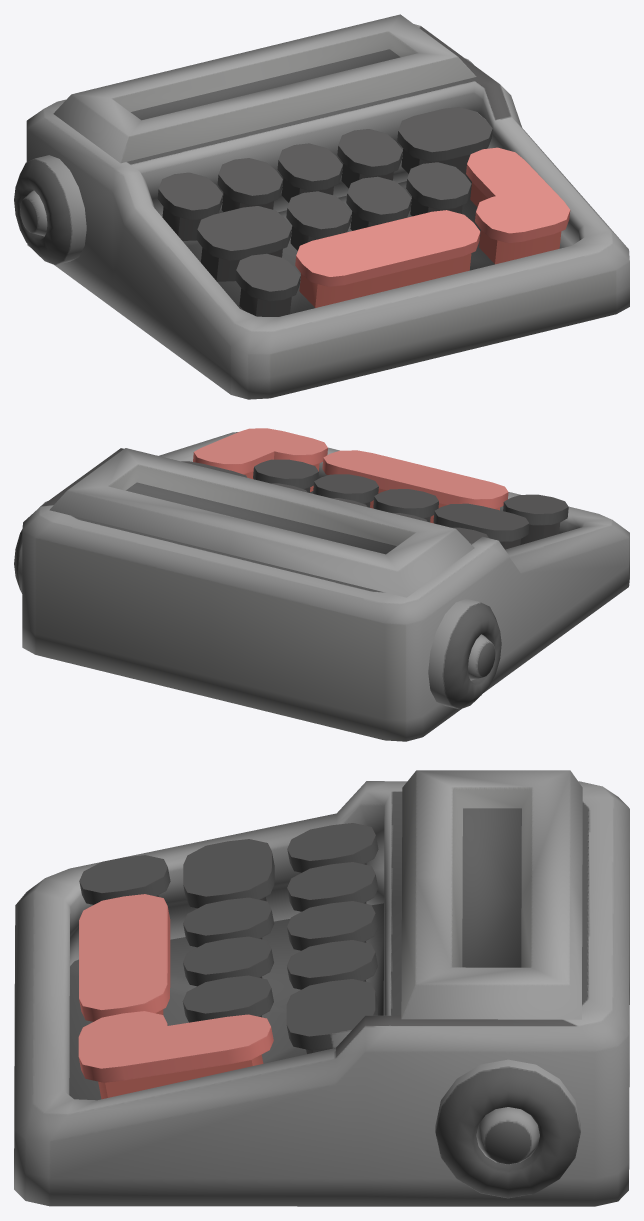
Rendered from TypingMachine.fbx.
The picture shows the model from 3 angles, top to bottom: view 1: azimuth 30°, elevation 25°; view 2: azimuth 150°, elevation 25°; view 3: azimuth 270°, elevation 25°; orthographic projection. The views are drawn at different scales.
Parts seen in each view (by area): view 1: TypingMachine_Base, TypingMachine_SpaceBar, TypingMachine_Enter, TypingMachine_button_04, TypingMachine_BackSpace, TypingMachine_button_08, TypingMachine_ESC, TypingMachine_button_02, TypingMachine_button_03, TypingMachine_button_07, TypingMachine_button_01, TypingMachine_button_05 (+1 smaller); view 2: TypingMachine_Base, TypingMachine_SpaceBar, TypingMachine_Enter, TypingMachine_button_04, TypingMachine_button_08, TypingMachine_button_07, TypingMachine_button_06, TypingMachine_button_05; view 3: TypingMachine_Base, TypingMachine_Enter, TypingMachine_SpaceBar, TypingMachine_button_04, TypingMachine_BackSpace, TypingMachine_button_05, TypingMachine_ESC, TypingMachine_button_01, TypingMachine_button_08, TypingMachine_button_03, TypingMachine_button_02, TypingMachine_button_06 (+1 smaller).
Part boxes in pixels (bbox=[...]): TypingMachine_Base: bbox=[14, 14, 629, 399]; TypingMachine_SpaceBar: bbox=[295, 210, 480, 307]; TypingMachine_Enter: bbox=[466, 147, 570, 264]; TypingMachine_button_04: bbox=[196, 206, 291, 281]; TypingMachine_BackSpace: bbox=[397, 107, 492, 175]; TypingMachine_button_08: bbox=[235, 253, 300, 316]; TypingMachine_ESC: bbox=[157, 172, 222, 240]; TypingMachine_button_02: bbox=[277, 143, 342, 202]; TypingMachine_button_03: bbox=[337, 129, 402, 188]; TypingMachine_button_07: bbox=[406, 162, 471, 216]; TypingMachine_button_01: bbox=[217, 158, 282, 211]; TypingMachine_button_05: bbox=[286, 191, 351, 250]; TypingMachine_Base: bbox=[14, 432, 629, 741]; TypingMachine_SpaceBar: bbox=[322, 450, 508, 523]; TypingMachine_Enter: bbox=[193, 428, 327, 491]; TypingMachine_button_04: bbox=[433, 503, 529, 549]; TypingMachine_button_08: bbox=[503, 494, 568, 544]; TypingMachine_button_07: bbox=[253, 459, 318, 492]; TypingMachine_button_06: bbox=[313, 474, 378, 507]; TypingMachine_button_05: bbox=[373, 489, 438, 522]; TypingMachine_Base: bbox=[14, 770, 629, 1206]; TypingMachine_Enter: bbox=[78, 1011, 273, 1099]; TypingMachine_SpaceBar: bbox=[79, 894, 170, 1021]; TypingMachine_button_04: bbox=[183, 839, 274, 908]; TypingMachine_BackSpace: bbox=[286, 979, 377, 1053]; TypingMachine_button_05: bbox=[183, 897, 274, 947]; TypingMachine_ESC: bbox=[287, 823, 378, 872]; TypingMachine_button_01: bbox=[287, 862, 378, 911]; TypingMachine_button_08: bbox=[79, 855, 170, 904]; TypingMachine_button_03: bbox=[287, 940, 377, 989]; TypingMachine_button_02: bbox=[287, 901, 377, 950]; TypingMachine_button_06: bbox=[183, 936, 273, 986].
Bounding box in the file's own units: 404 × 127 × 355.
